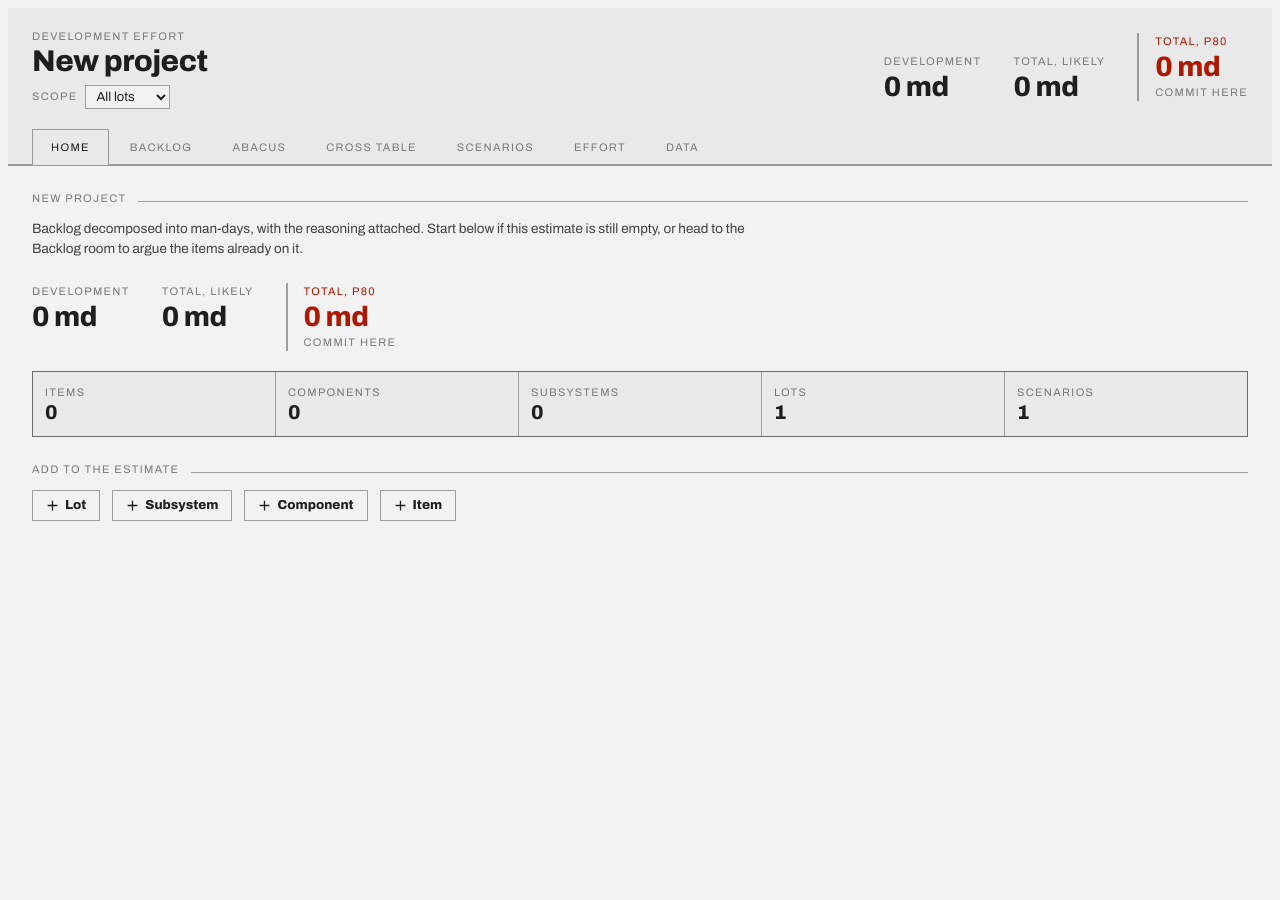
Scenario: App › lands on Home and opens the add modal on the right tab from its buttons
Expected: the field showing "New project" is shown, [32,45,378,79]
Click the button "Lot".
click(66, 506)  # box [32,490,100,521]
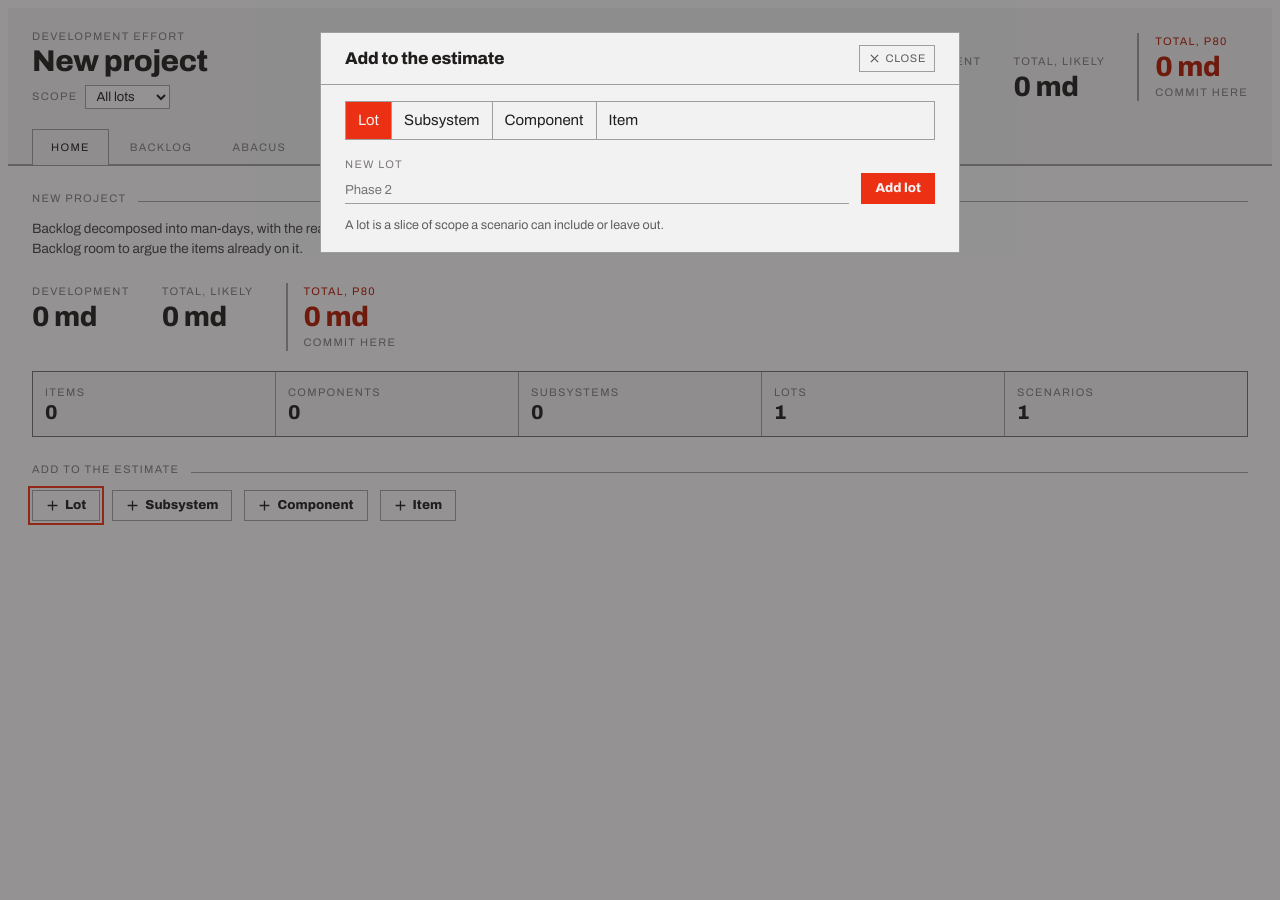
Result: the field with placeholder "Phase 2" is shown at [345,177,849,204]
Click the button "close".
click(897, 58)  # box [859,45,935,72]
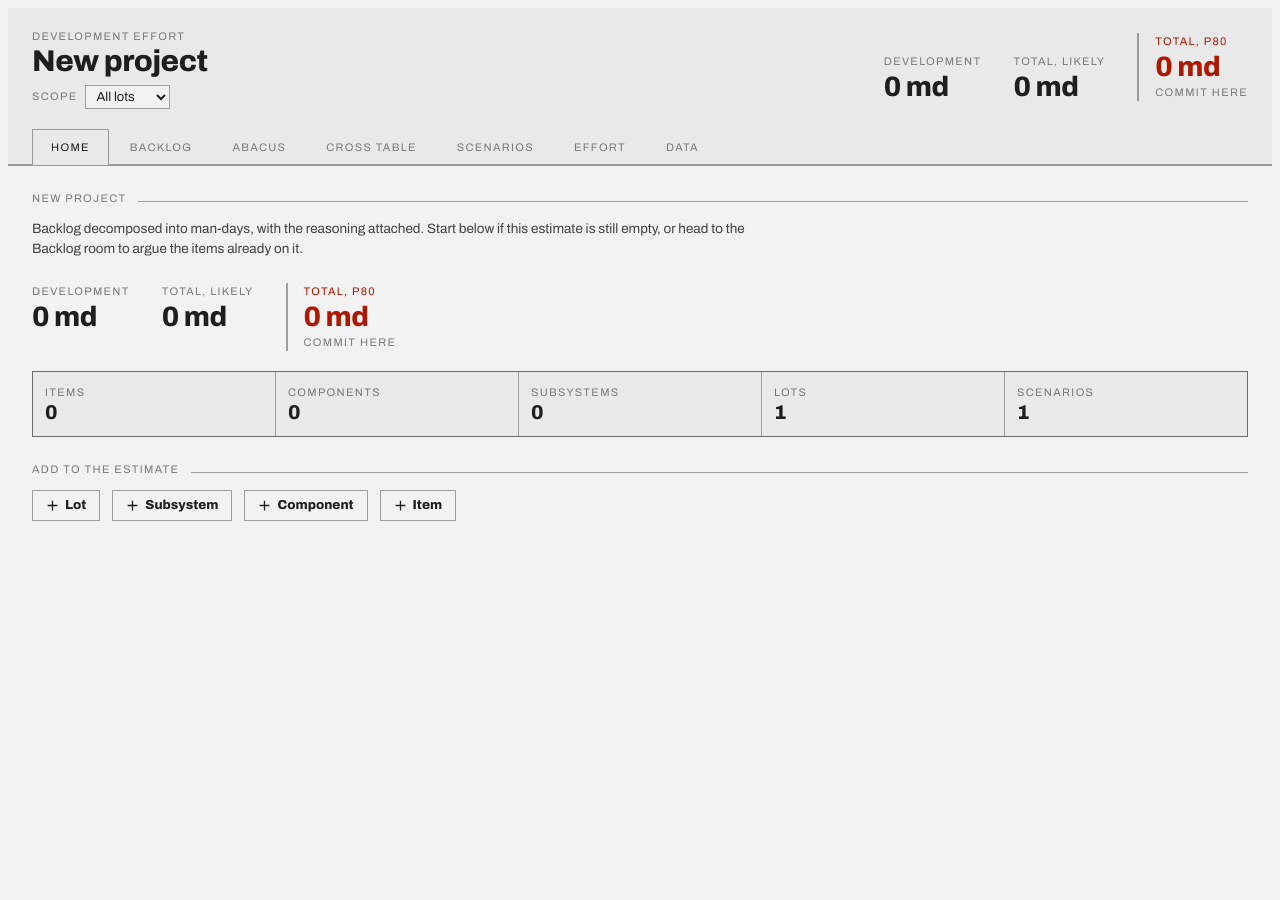
Click the button "Component".
click(306, 506)  # box [244,490,368,521]
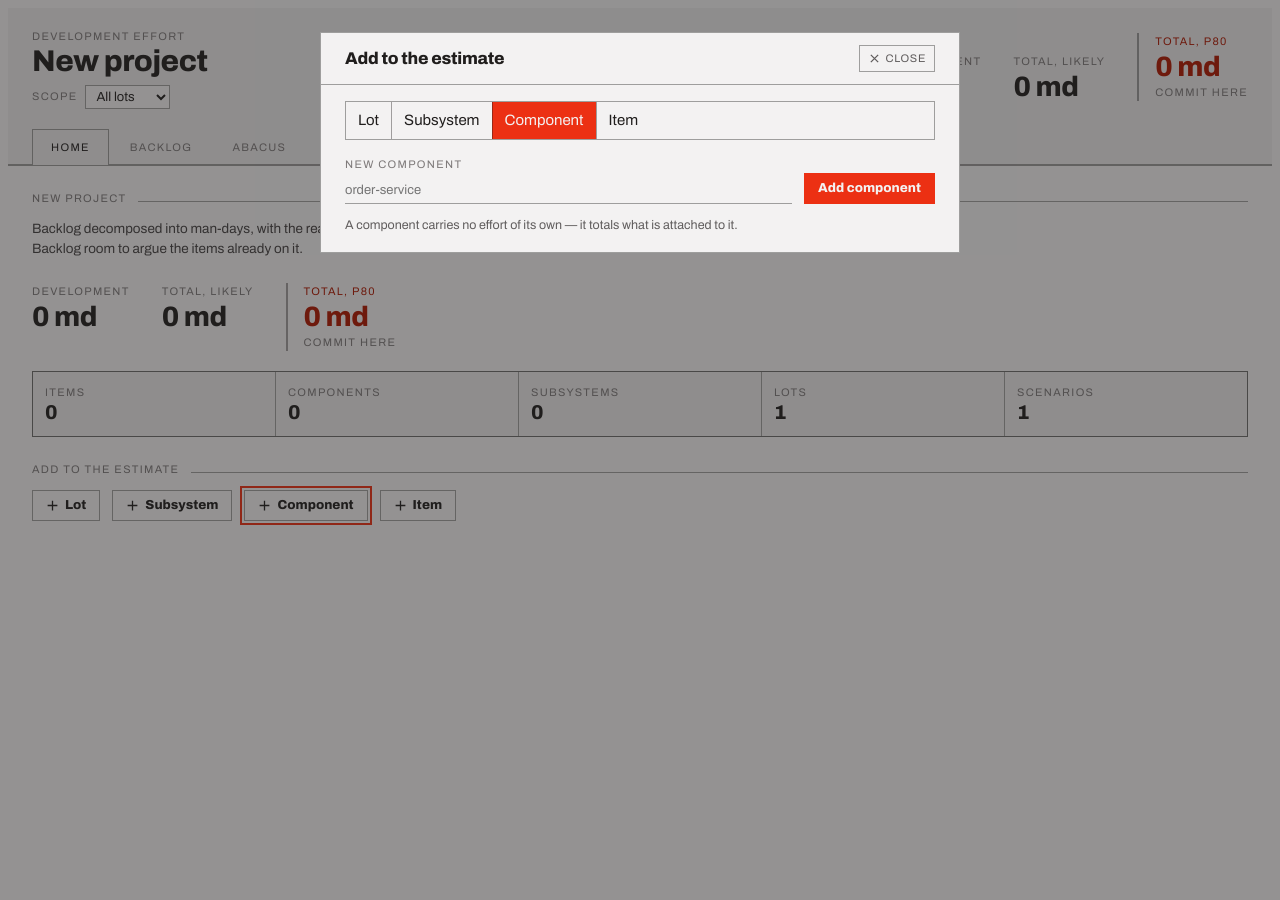
Result: the field with placeholder "order-service" is shown at [345,177,792,204]
